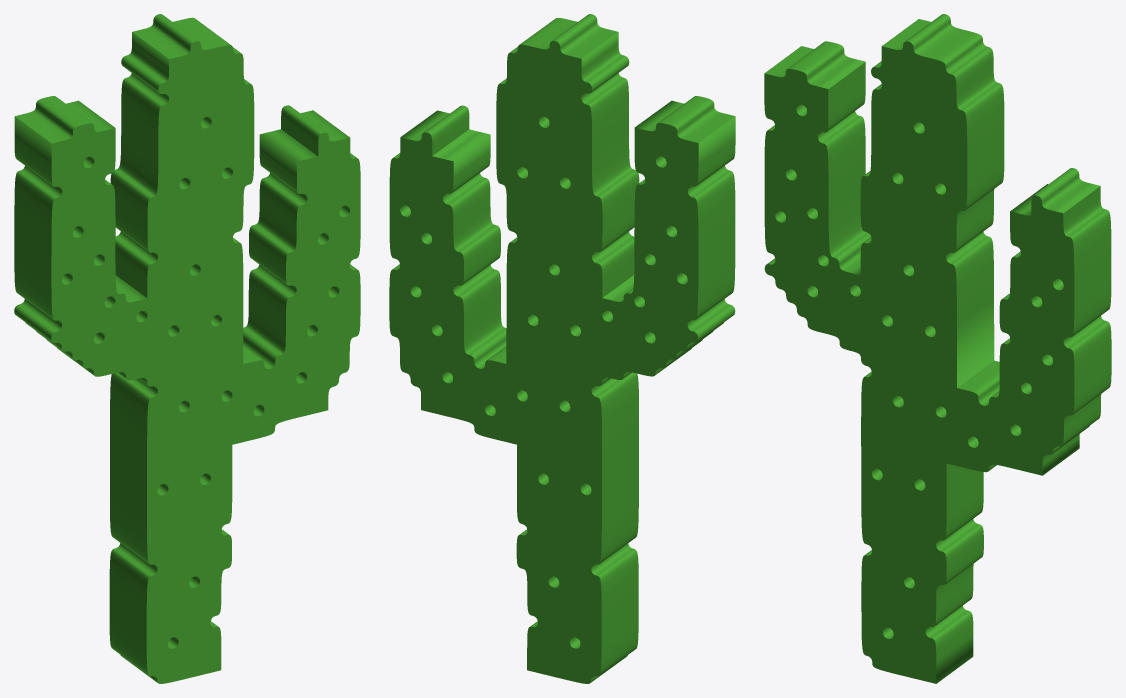
File: sam_cactus.fbx
The picture shows the model from 3 angles, left to right: view 1: azimuth 30°, elevation 25°; view 2: azimuth 150°, elevation 25°; view 3: azimuth 330°, elevation 25°; orthographic projection.
Visible parts, largest first — view 1: Curve; view 2: Curve; view 3: Curve.
Part boxes in pixels (x1,y1,x2,y2): Curve: (14, 14, 360, 683); Curve: (389, 14, 735, 683); Curve: (764, 14, 1111, 683).
Size of the model in its own units: 263 by 517 by 56.52.
